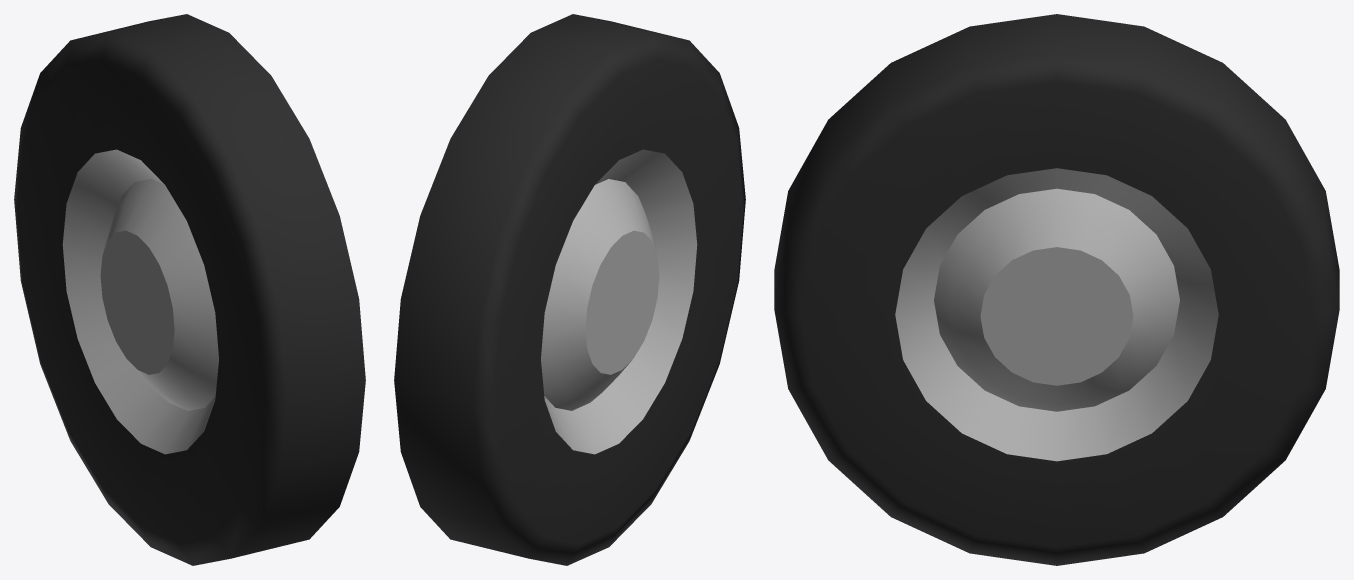
File: wheel_nocar 1.fbx
3 views of the same model, side by side, from view 1: azimuth 30°, elevation 25°; view 2: azimuth 150°, elevation 25°; view 3: azimuth 270°, elevation 25° (orthographic). The views are drawn at different scales.
Visible parts, largest first — view 1: Wheel; view 2: Wheel; view 3: Wheel.
Boxes of the visible parts, <box> form: Wheel: <box>14,14,365,565</box>; Wheel: <box>394,14,745,565</box>; Wheel: <box>774,14,1339,565</box>.
Bounding box in the file's own units: 19.32 × 87.2 × 87.2.
